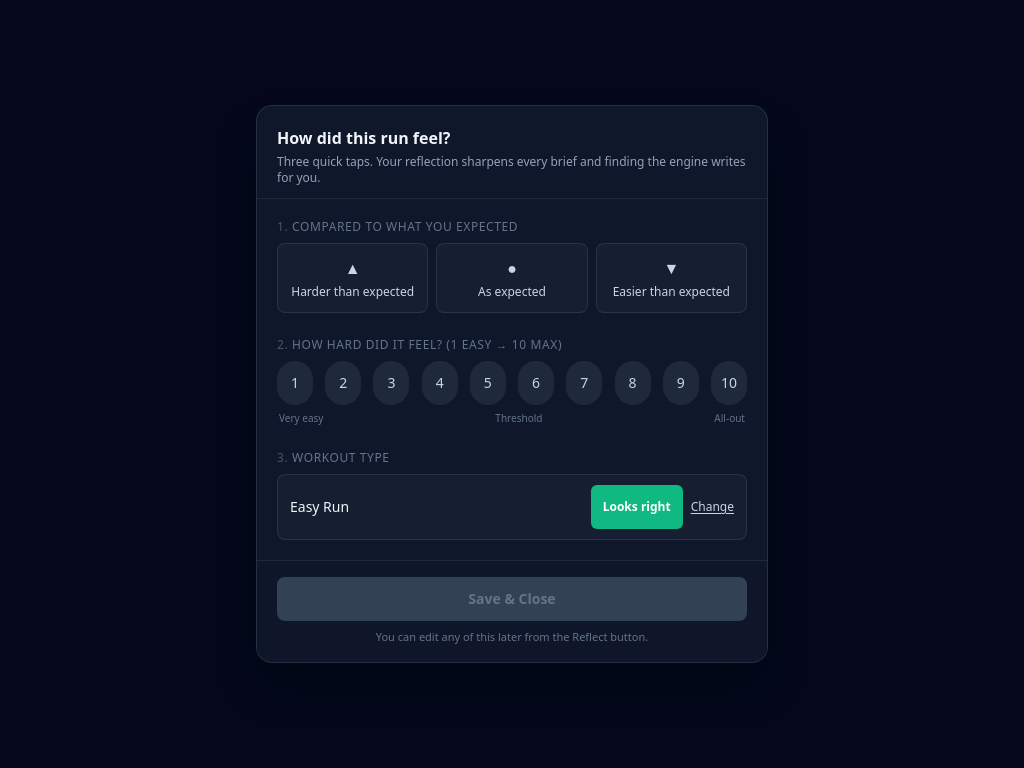
Test: FeedbackModal — gating › Save & Close enables only after reflection + RPE + workout type are set
Expected: the button "Save & Close" is disabled, x1=277 y1=577 x2=747 y2=621
Pick reflection.
Click the button "▲ Harder than expected" at x=353, y=278, box x1=277 y1=243 x2=428 y2=313
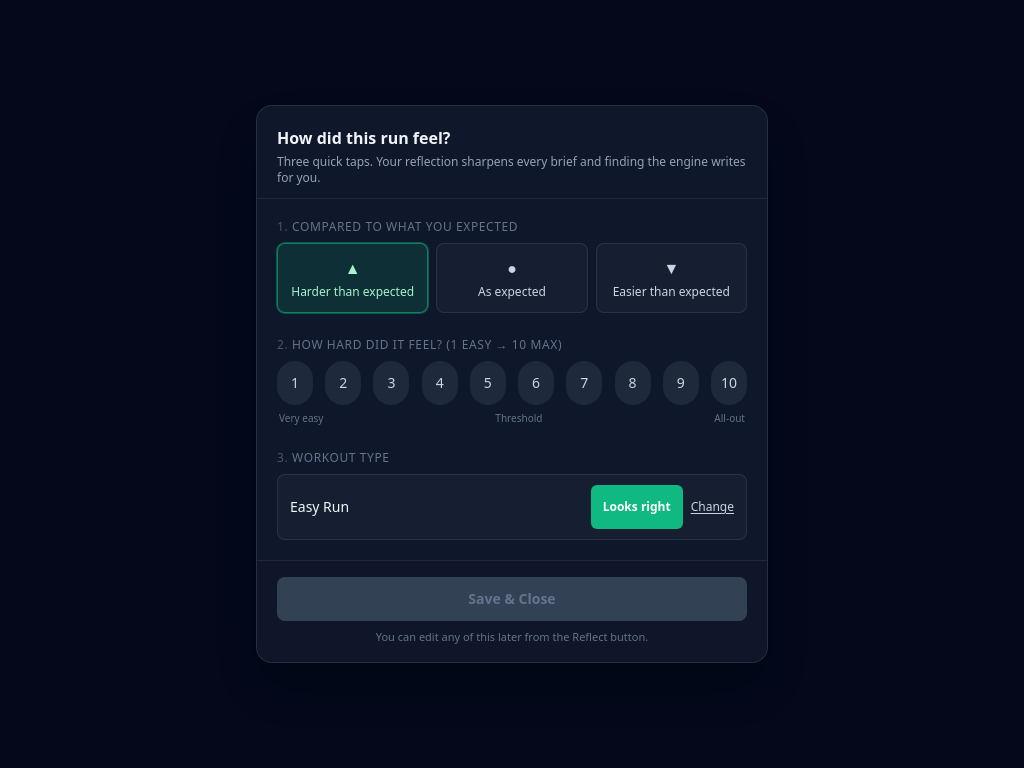
Expected: the button "Save & Close" is disabled, x1=277 y1=577 x2=747 y2=621
Pick RPE 7.
Click the button "7" at x=584, y=383, box x1=566 y1=361 x2=602 y2=405
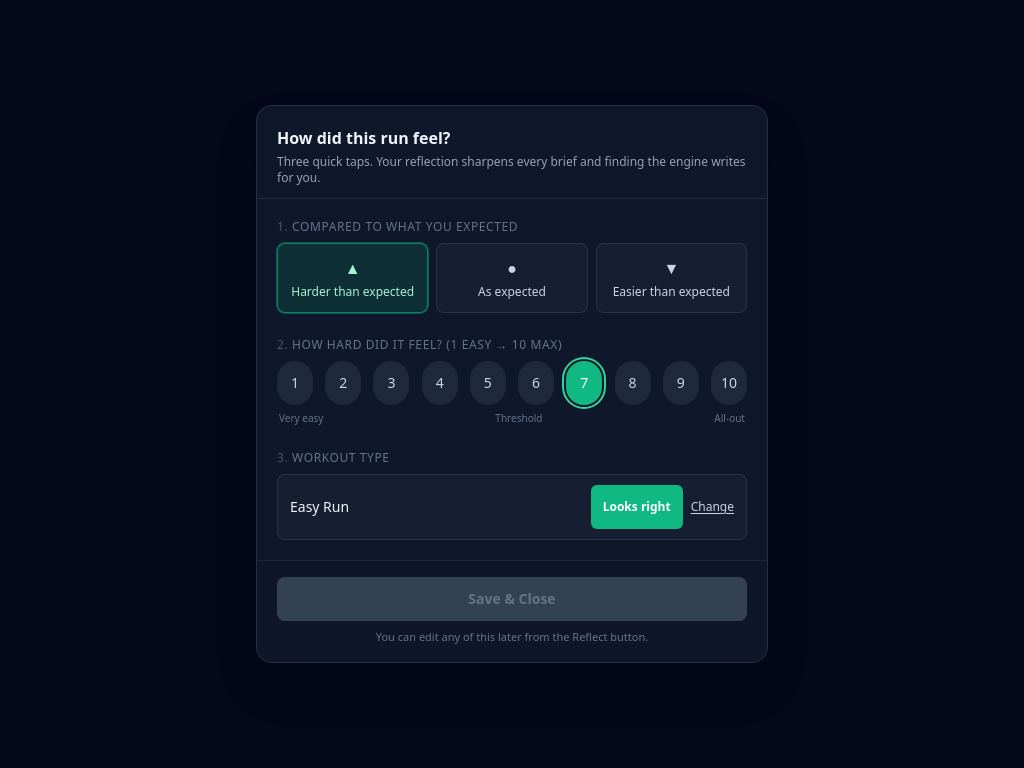
Expected: the button "Save & Close" is disabled, x1=277 y1=577 x2=747 y2=621
Confirm workout type.
Click the button "Looks right" at x=637, y=507, box x1=591 y1=485 x2=683 y2=529
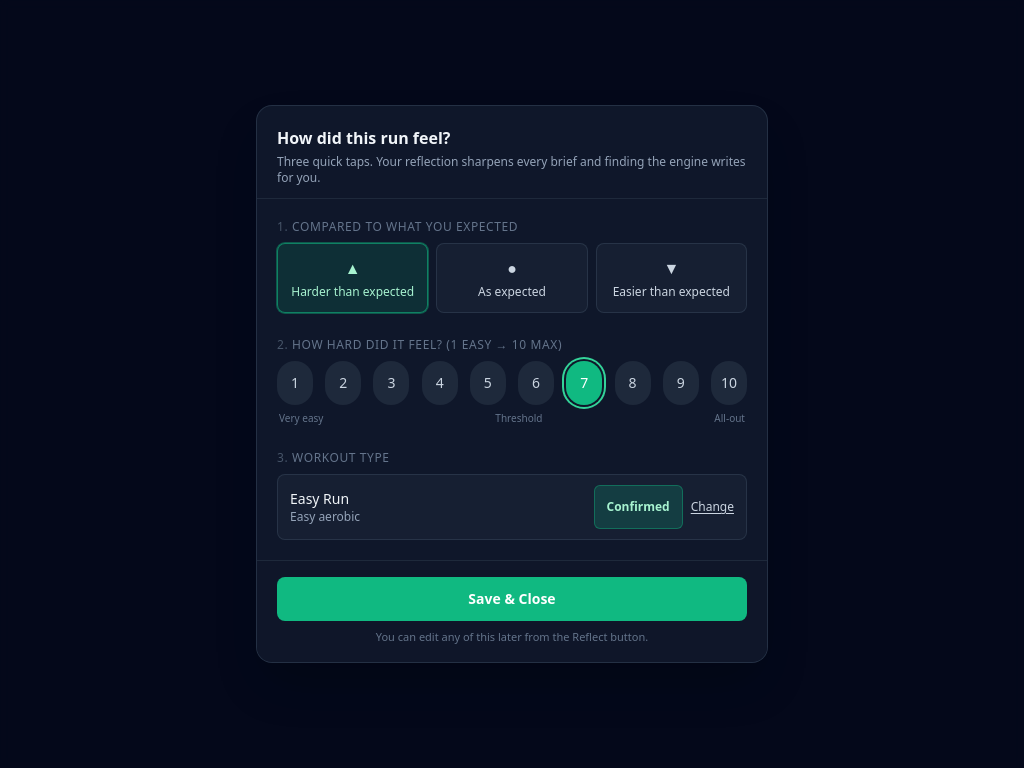
Expected: the button "Save & Close" is enabled, x1=277 y1=577 x2=747 y2=621
